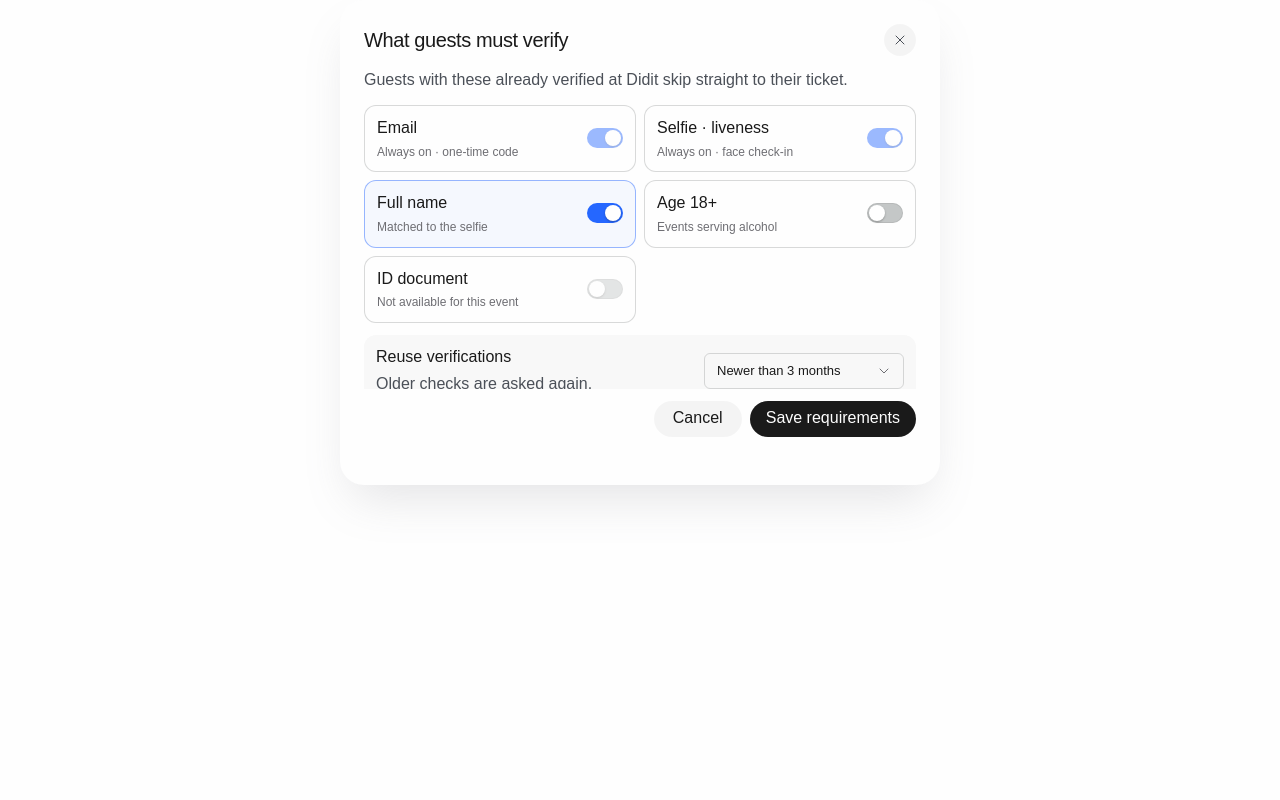
Scenario: RequirementsModal handles thrown
The width and height of the screenshot is (1280, 800).
Step 1. Click the button "Save requirements" → (833,419), box [750, 401, 916, 437]
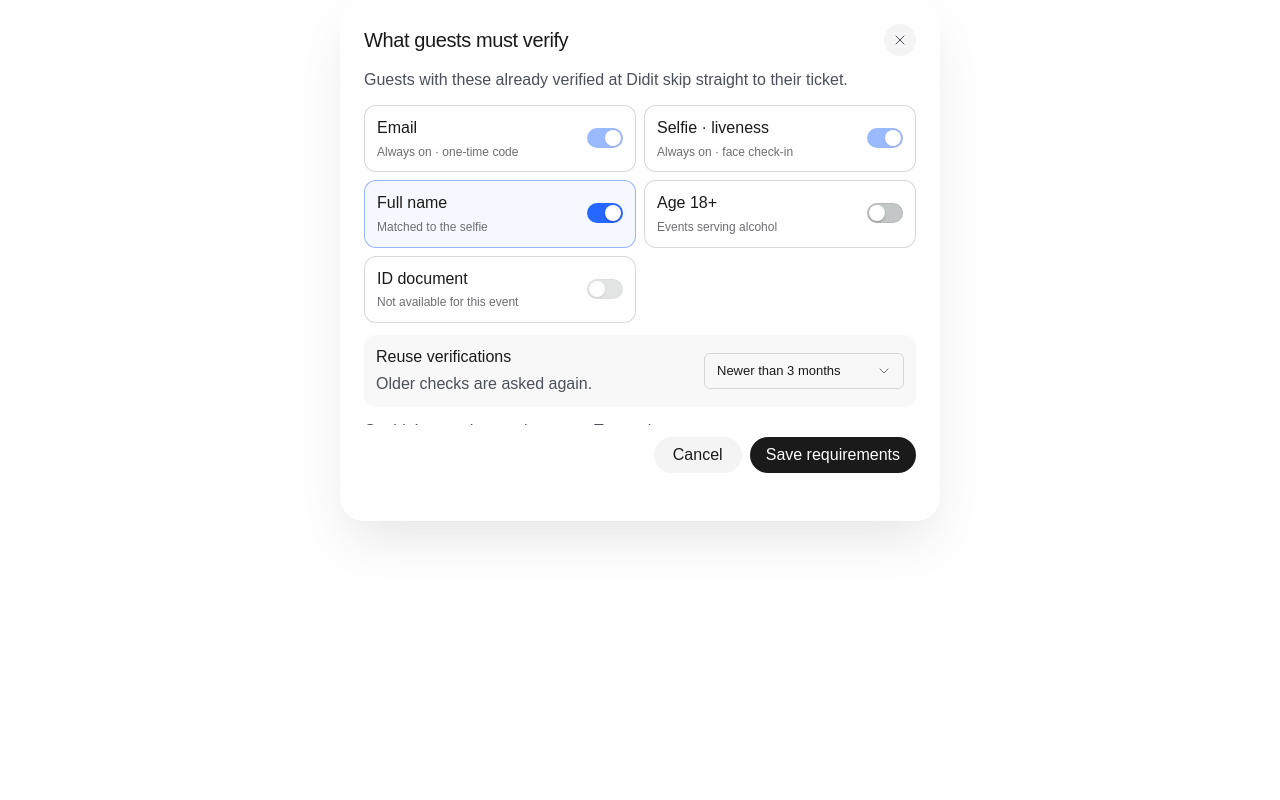
Now the message "Couldn’t save the requirements. Try again." is shown, box [364, 422, 665, 439]
